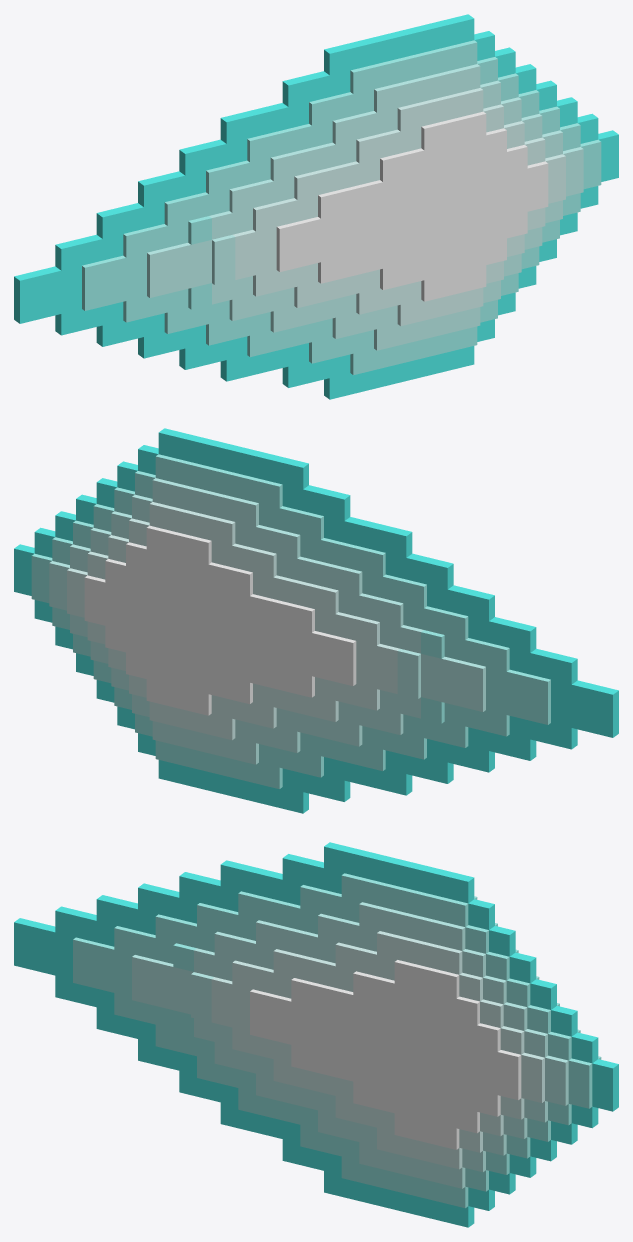
Rendered from shoot1.dae.
3 views of the same model, one above another, from view 1: azimuth 30°, elevation 25°; view 2: azimuth 150°, elevation 25°; view 3: azimuth 330°, elevation 25° (orthographic).
Parts seen in each view (by area): view 1: generated; view 2: generated; view 3: generated.
Part boxes in pixels (x1,y1,x2,y2): generated: (14,14,618,399); generated: (14,428,618,813); generated: (14,842,618,1227).
Size of the model in its own units: 29 by 16 by 2.5.
